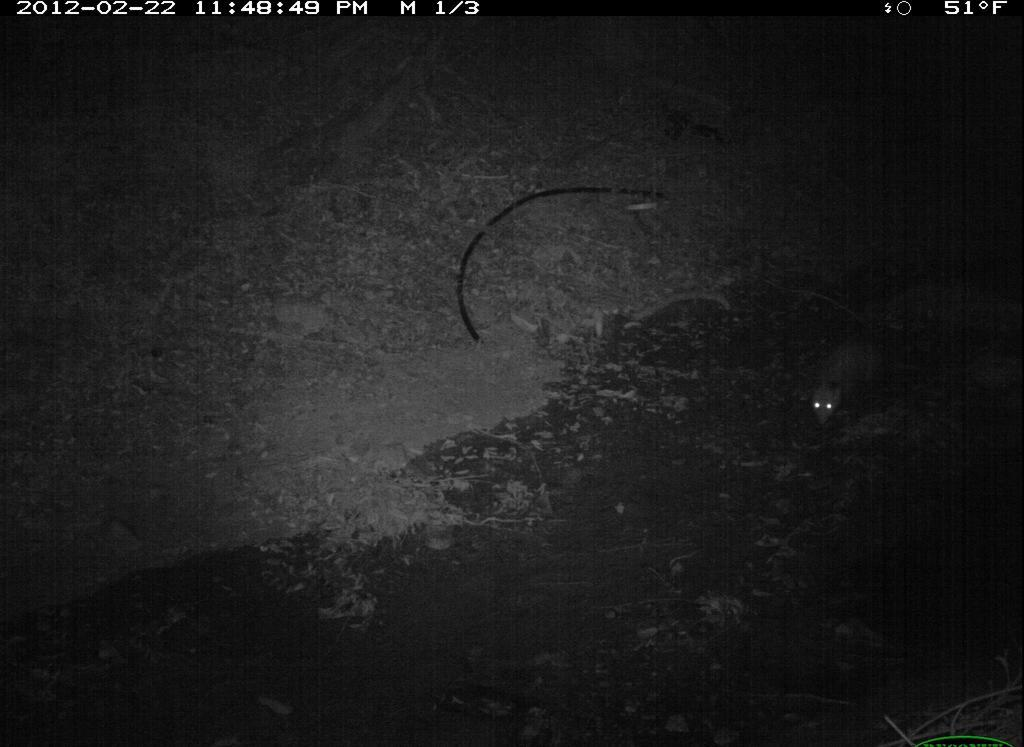opossum: (802, 318, 894, 429)
